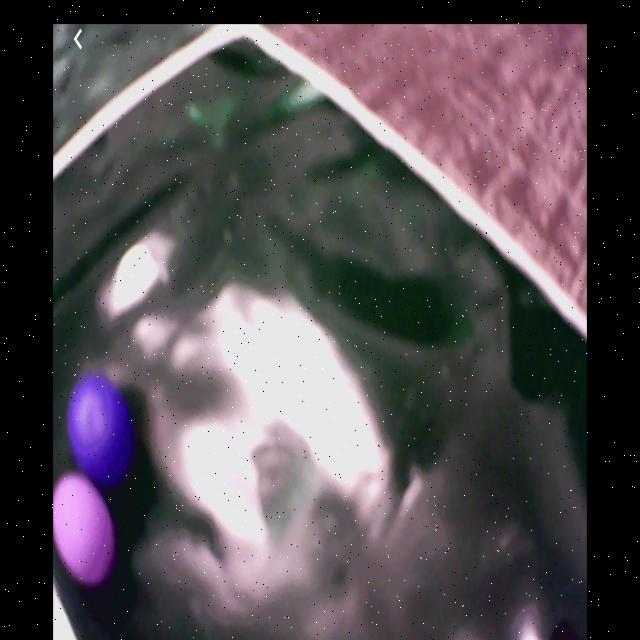ball: (69, 373, 134, 485), (53, 475, 117, 588)
